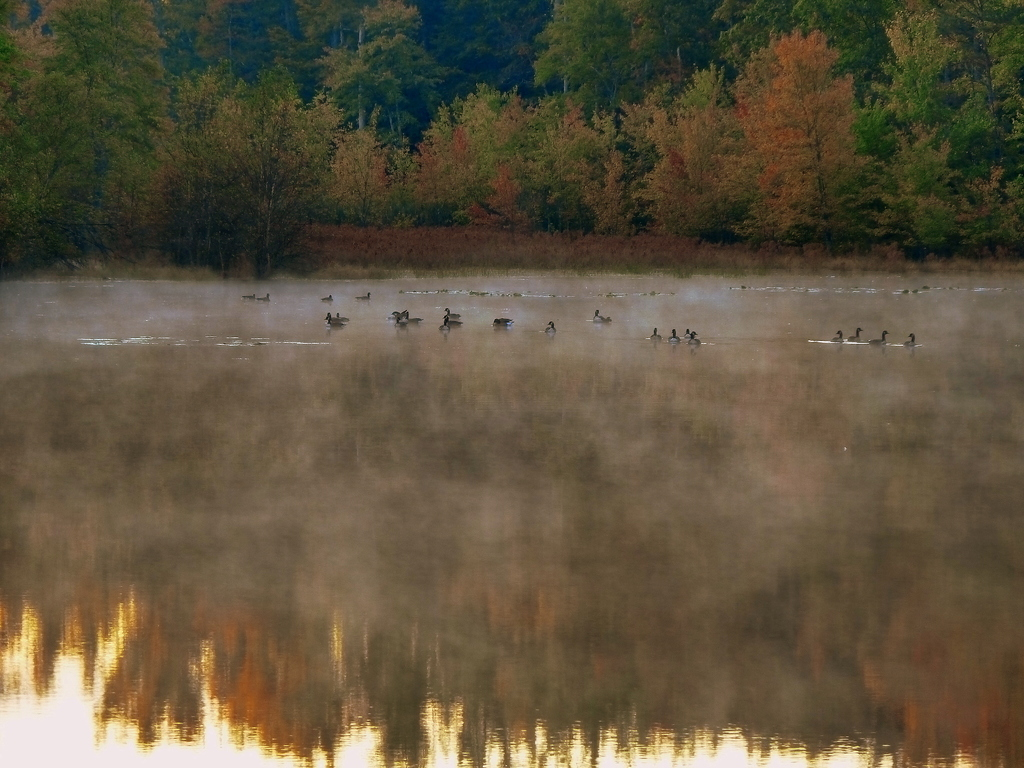Animal: (591, 307, 611, 327), (844, 323, 866, 341), (385, 310, 409, 323), (324, 308, 346, 322), (442, 306, 462, 321), (437, 315, 453, 331), (681, 326, 694, 345), (903, 334, 920, 348), (690, 327, 701, 348), (357, 287, 369, 306), (353, 288, 371, 300), (496, 315, 511, 329), (443, 316, 460, 328), (902, 329, 912, 349), (337, 308, 350, 323), (872, 331, 887, 344), (687, 330, 701, 343), (255, 292, 273, 302), (668, 326, 678, 343), (649, 328, 661, 342), (834, 330, 845, 343), (545, 320, 558, 330), (239, 295, 253, 304), (319, 293, 332, 300), (244, 293, 254, 302), (548, 323, 555, 333)
